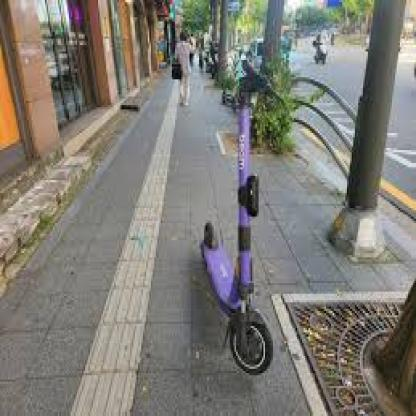kickboard: (195, 57, 276, 376)
